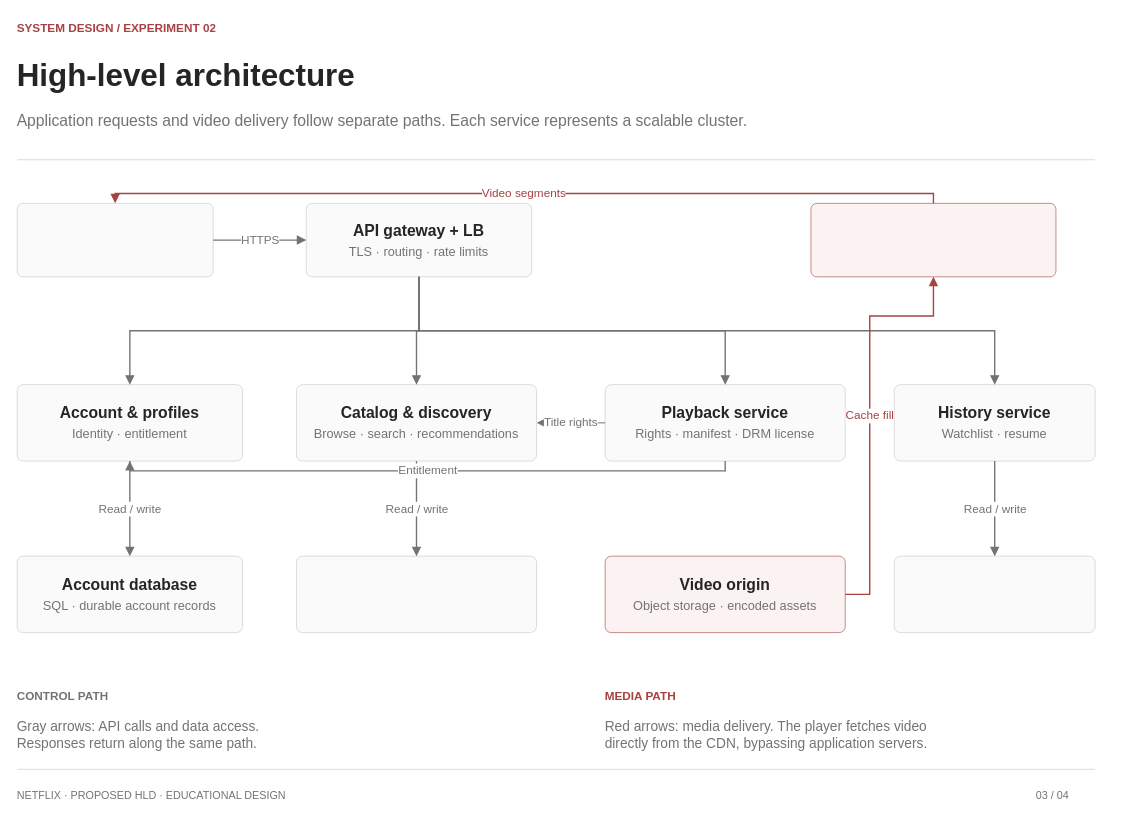
The diagram is 1122 pixels wide and 825 high, and some of its shapes have lost their labels. Each missing label, with the box of its shape:
Catalog stores Metadata DB · index · cache: (295, 555, 537, 633)
CDN edge Caches video near viewers: (810, 202, 1056, 277)
Profile data store Key-value · per-profile state: (893, 555, 1095, 633)
Viewer app Web · mobile · TV: (16, 202, 213, 277)
